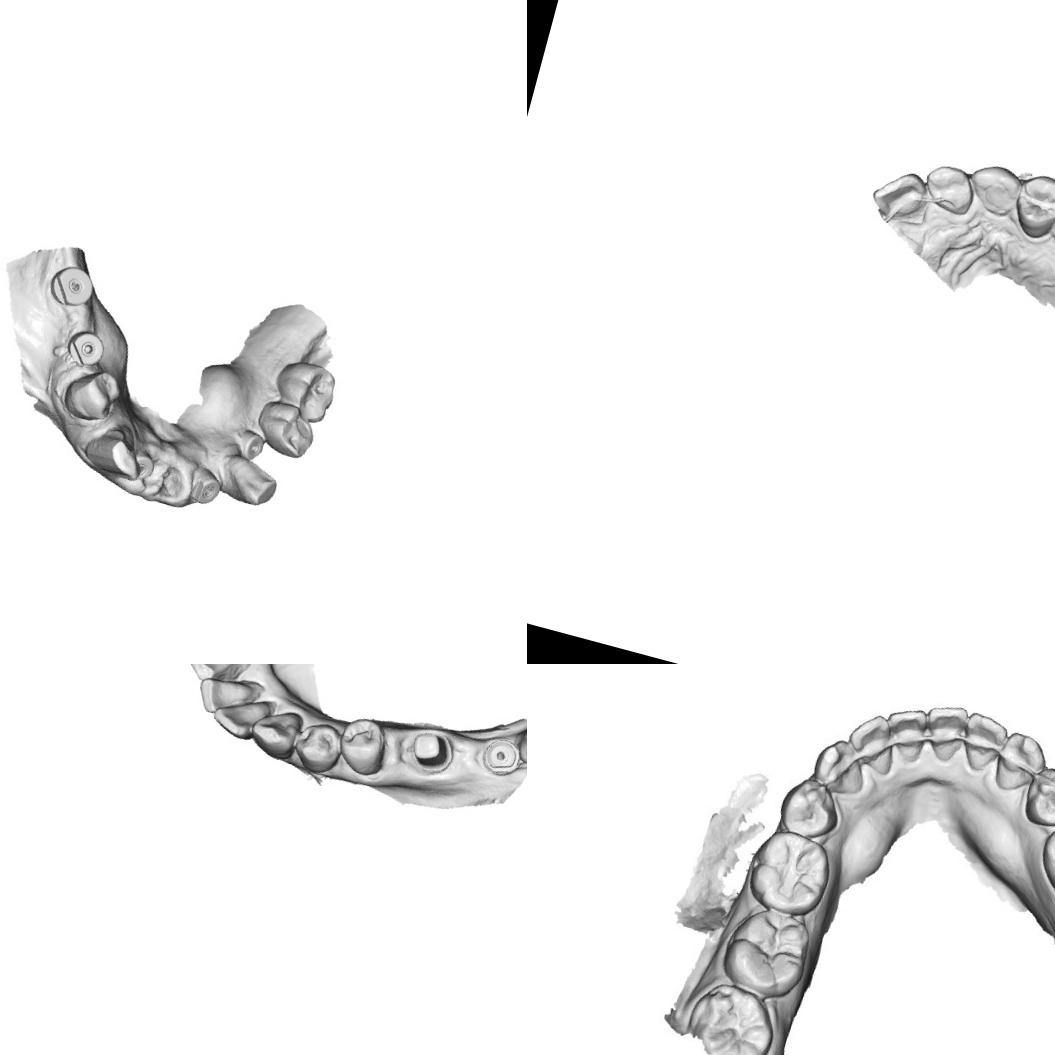abutment: (404, 726, 458, 776)
canine: (806, 732, 874, 801), (988, 726, 1052, 799), (79, 419, 149, 480), (961, 158, 1026, 220), (215, 450, 282, 510), (244, 699, 305, 764)
implant: (44, 259, 100, 313), (478, 731, 526, 780), (61, 324, 108, 370), (185, 463, 225, 509), (232, 426, 268, 465), (128, 446, 159, 484)
incisor: (839, 707, 908, 779), (866, 162, 934, 228), (952, 708, 1014, 778), (914, 696, 976, 766), (208, 686, 273, 744), (875, 700, 932, 766), (917, 159, 980, 218), (191, 670, 256, 724), (181, 664, 244, 689)
molar: (713, 899, 818, 1003), (740, 824, 839, 922), (675, 973, 785, 1055), (266, 353, 342, 428), (1029, 804, 1055, 912)
premolar: (773, 771, 848, 844), (248, 394, 321, 462), (56, 360, 126, 429), (330, 710, 394, 780), (1006, 167, 1055, 245), (288, 715, 346, 779), (1018, 759, 1055, 836)
